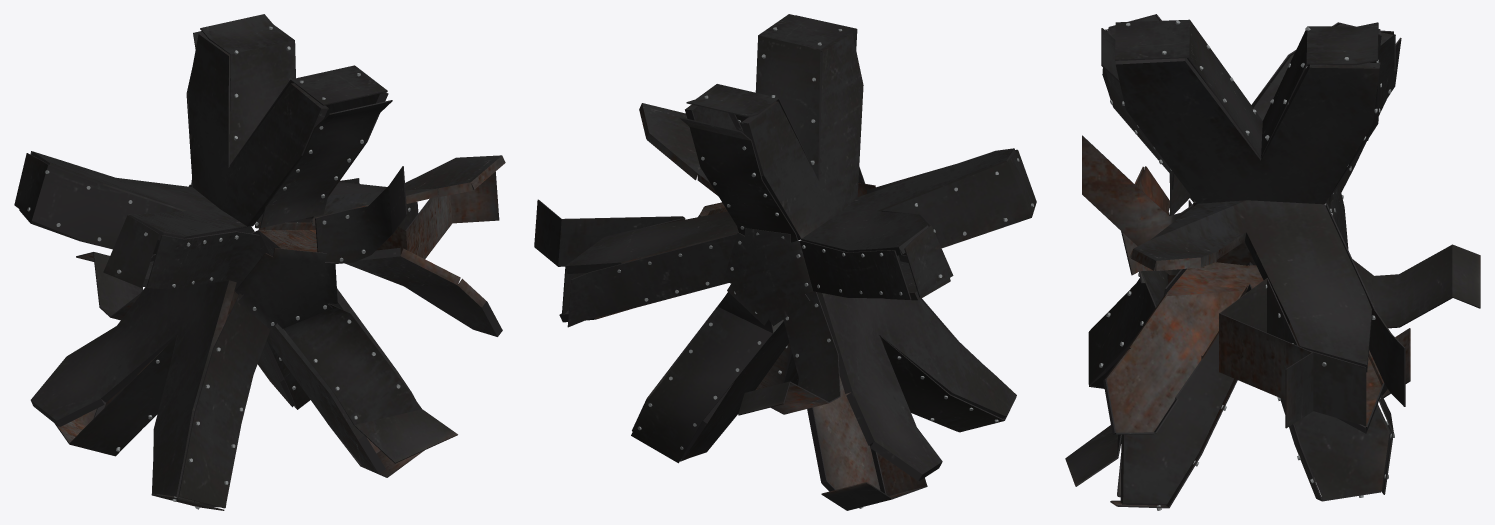
File: kamuro-komet-Skulptur_6_metal.glb
The picture shows the model from 3 angles, left to right: view 1: azimuth 30°, elevation 25°; view 2: azimuth 150°, elevation 25°; view 3: azimuth 270°, elevation 25°; orthographic projection. The views are drawn at different scales.
Visible parts, largest first — view 1: Skulptur; view 2: Skulptur; view 3: Skulptur.
Part boxes in pixels (x1,y1,x2,y2): Skulptur: (14,14,505,510); Skulptur: (534,14,1036,510); Skulptur: (1065,14,1480,508).
Bounding box in the file's own units: 6.23 × 5.16 × 4.3.
2 materials, 1 textured.
